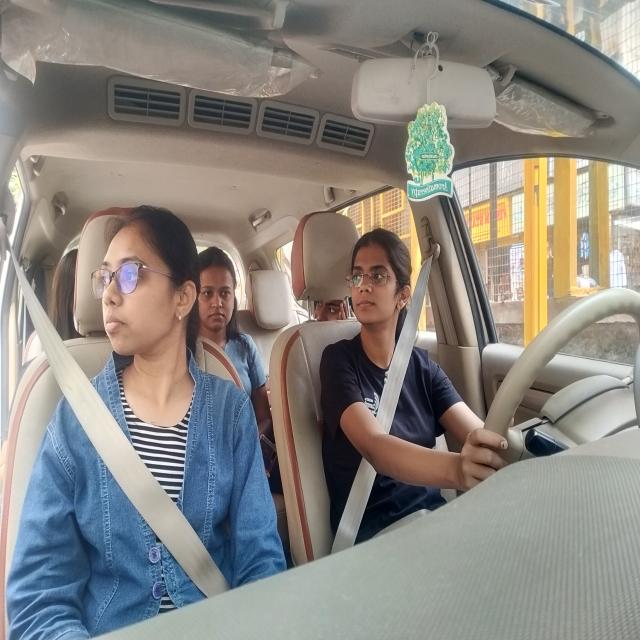LeftRight: (341, 216, 424, 363), (197, 226, 249, 360)
person: (88, 195, 208, 389)
